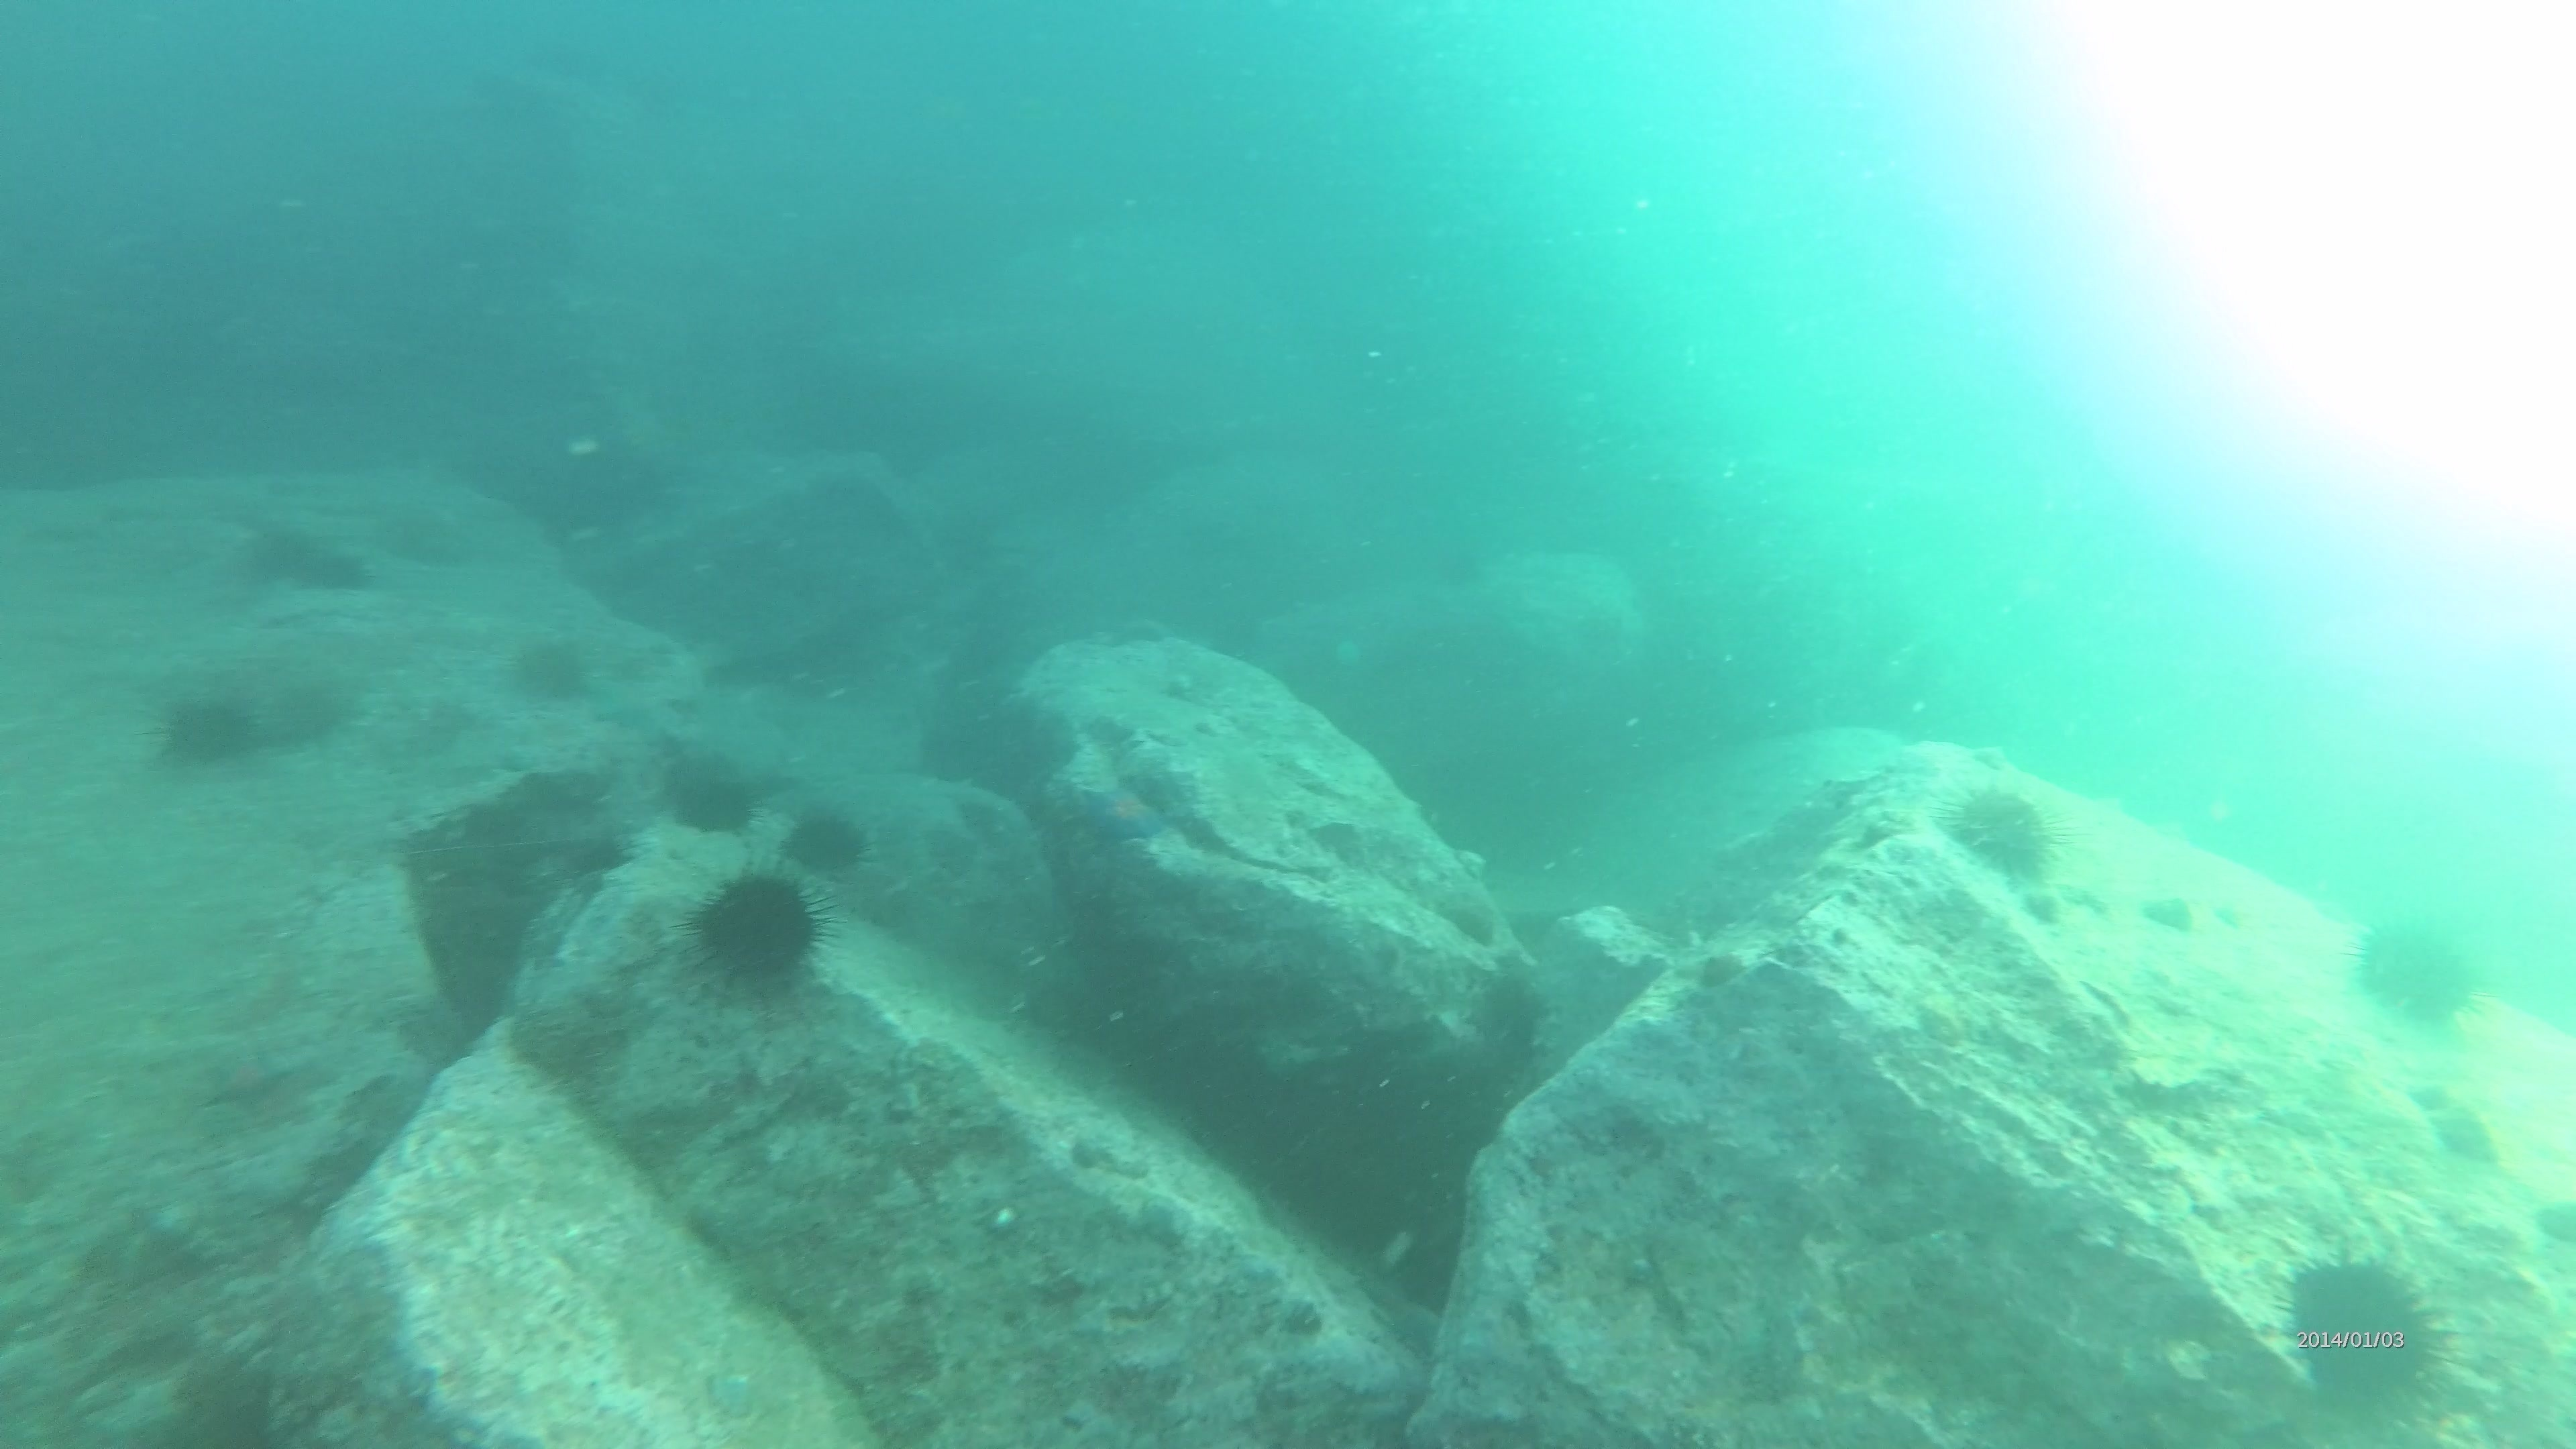echinus: (2273, 1246, 2461, 1428), (681, 863, 832, 998), (2348, 911, 2489, 1035), (1939, 777, 2066, 890), (234, 513, 375, 600), (149, 681, 267, 777), (1463, 961, 1557, 1065), (660, 748, 764, 840), (501, 626, 600, 711), (780, 800, 874, 879), (262, 683, 336, 754)
starfish: (1063, 764, 1180, 851)
